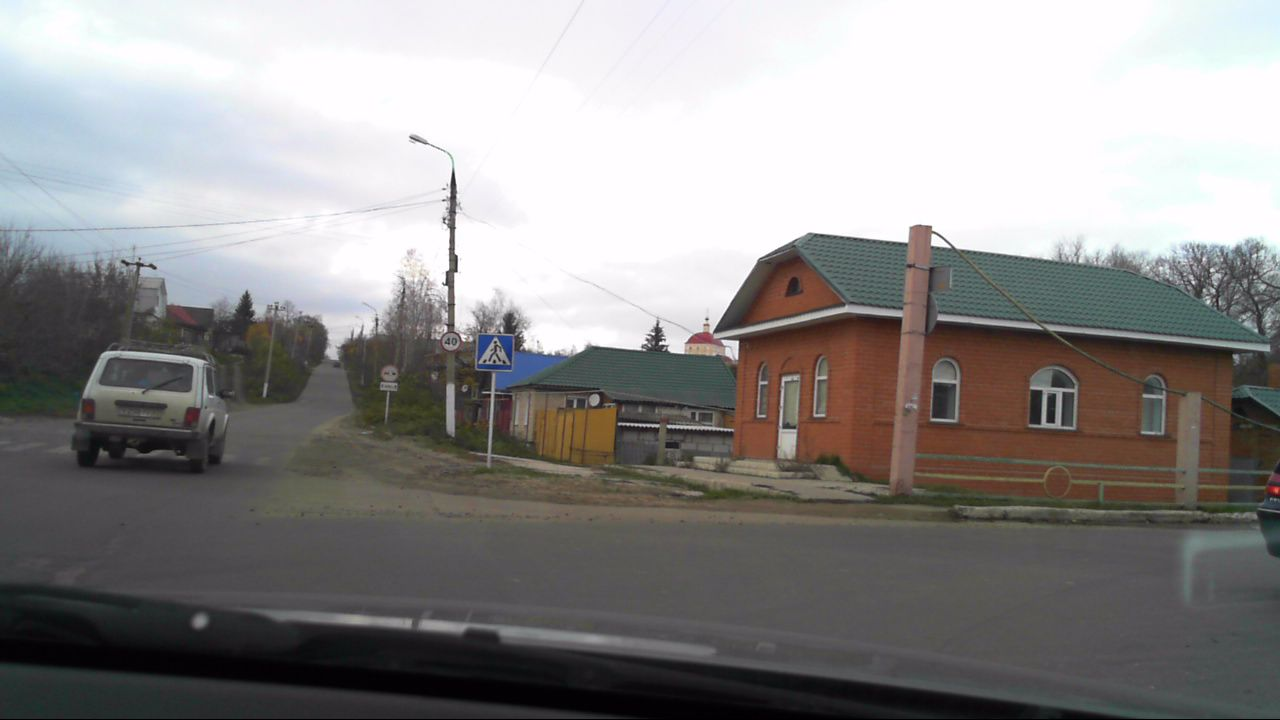speed_warning_40: (441, 329, 462, 351)
